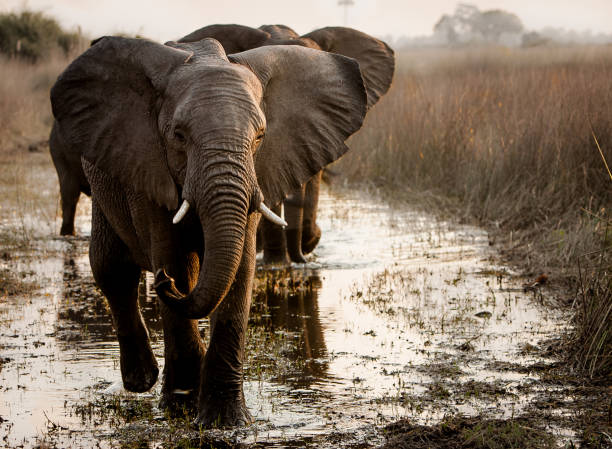africanelephant: (112, 53, 297, 242)
